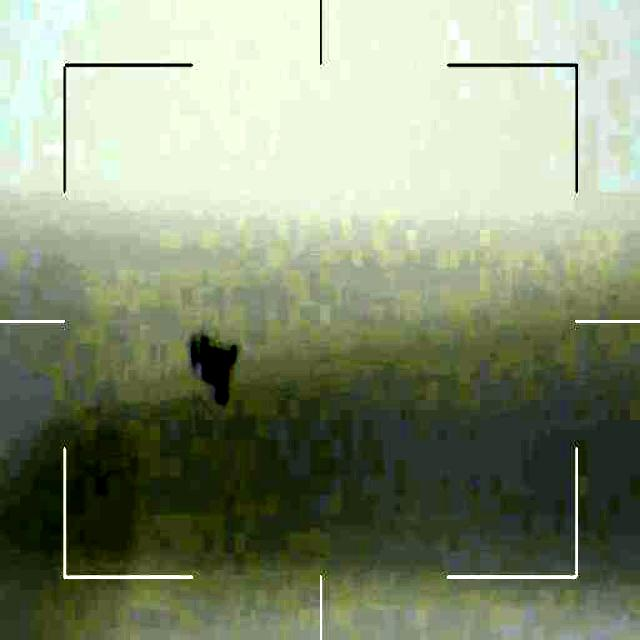bird: (189, 331, 246, 401)
